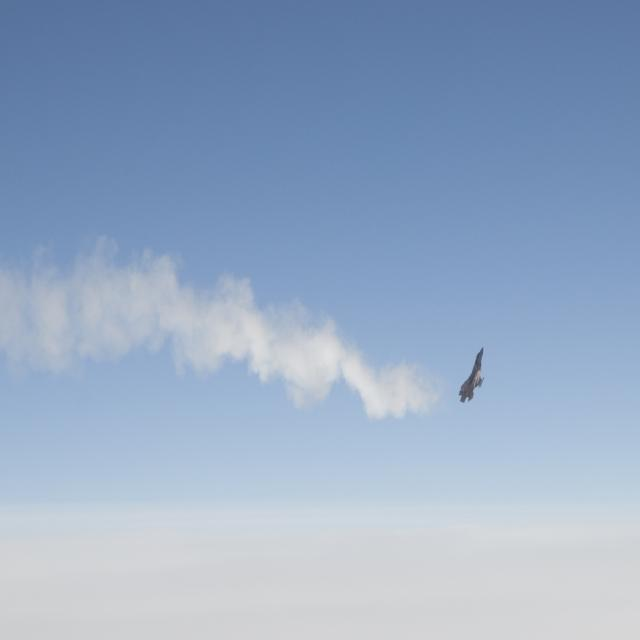MIL_Plane: (458, 346, 484, 404)
